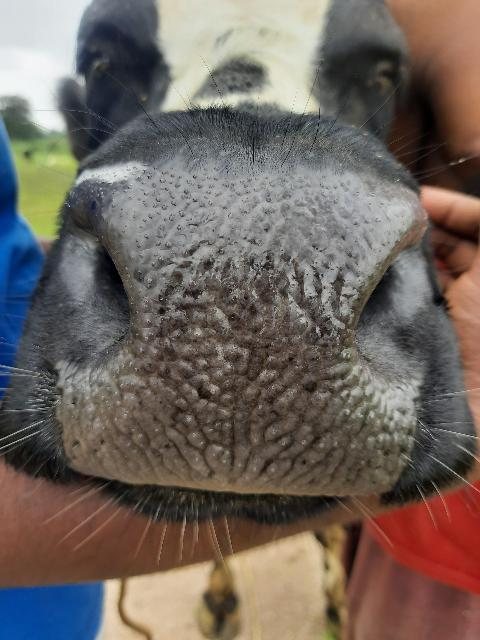Muzzle: (91, 171, 379, 491)
